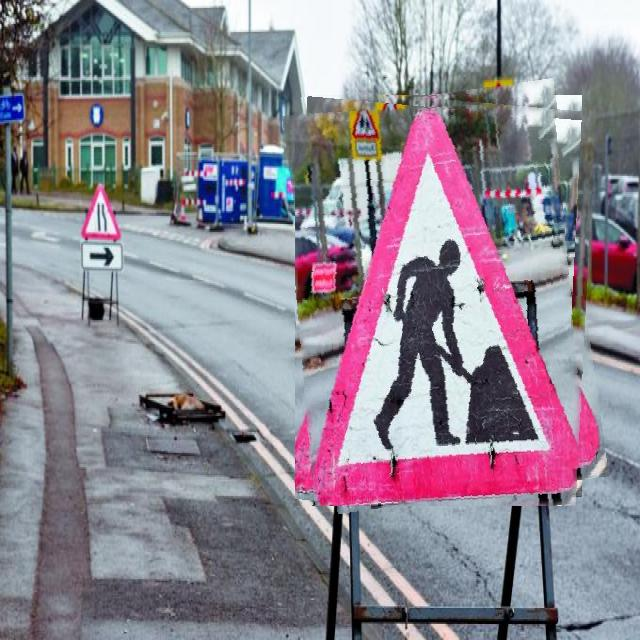roadwork: (295, 86, 596, 506)
